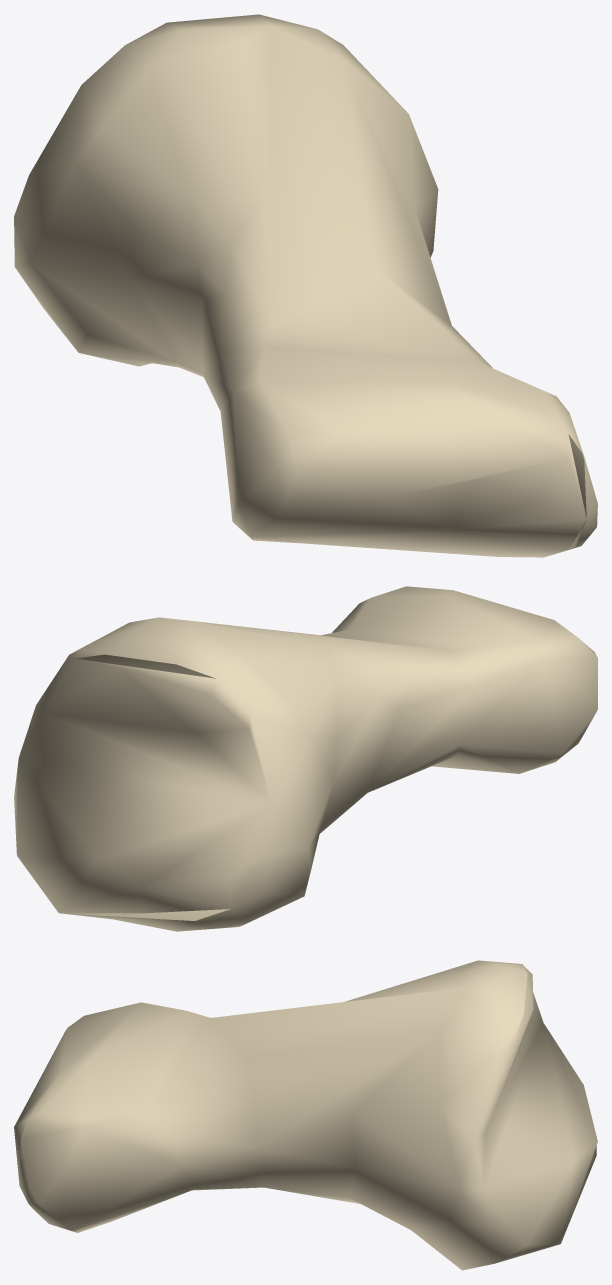
File: esqueleto-middle-phalanx-of-third-finger-of-foot-r.glb
The picture shows the model from 3 angles, top to bottom: view 1: azimuth 30°, elevation 25°; view 2: azimuth 150°, elevation 25°; view 3: azimuth 270°, elevation 25°; orthographic projection. The views are drawn at different scales.
Parts seen in each view (by area): view 1: Middle phalanx of third finger of foot.r; view 2: Middle phalanx of third finger of foot.r; view 3: Middle phalanx of third finger of foot.r.
Part boxes in pixels (left/top/right/bottom): Middle phalanx of third finger of foot.r: left=14, top=14, right=597, bottom=557; Middle phalanx of third finger of foot.r: left=14, top=586, right=597, bottom=931; Middle phalanx of third finger of foot.r: left=14, top=960, right=597, bottom=1270.
Bounding box in the file's own units: 0.0111 × 0.0083 × 0.0174.
